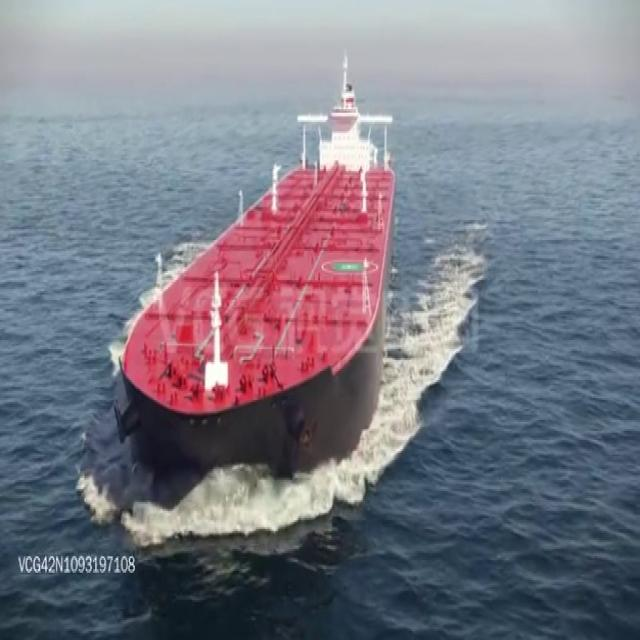cargoship: (121, 50, 401, 470)
